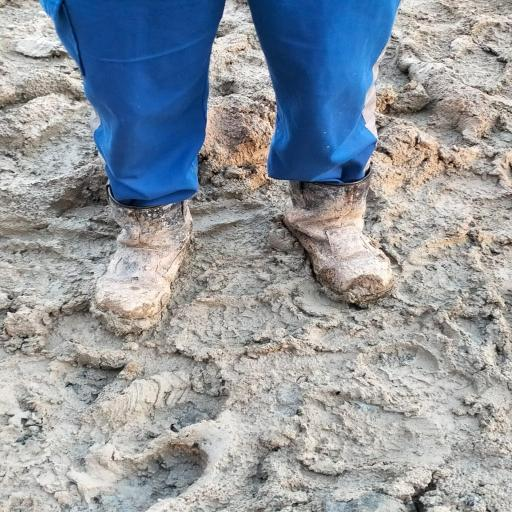safety_shoe: (81, 187, 193, 329), (283, 177, 392, 299)
